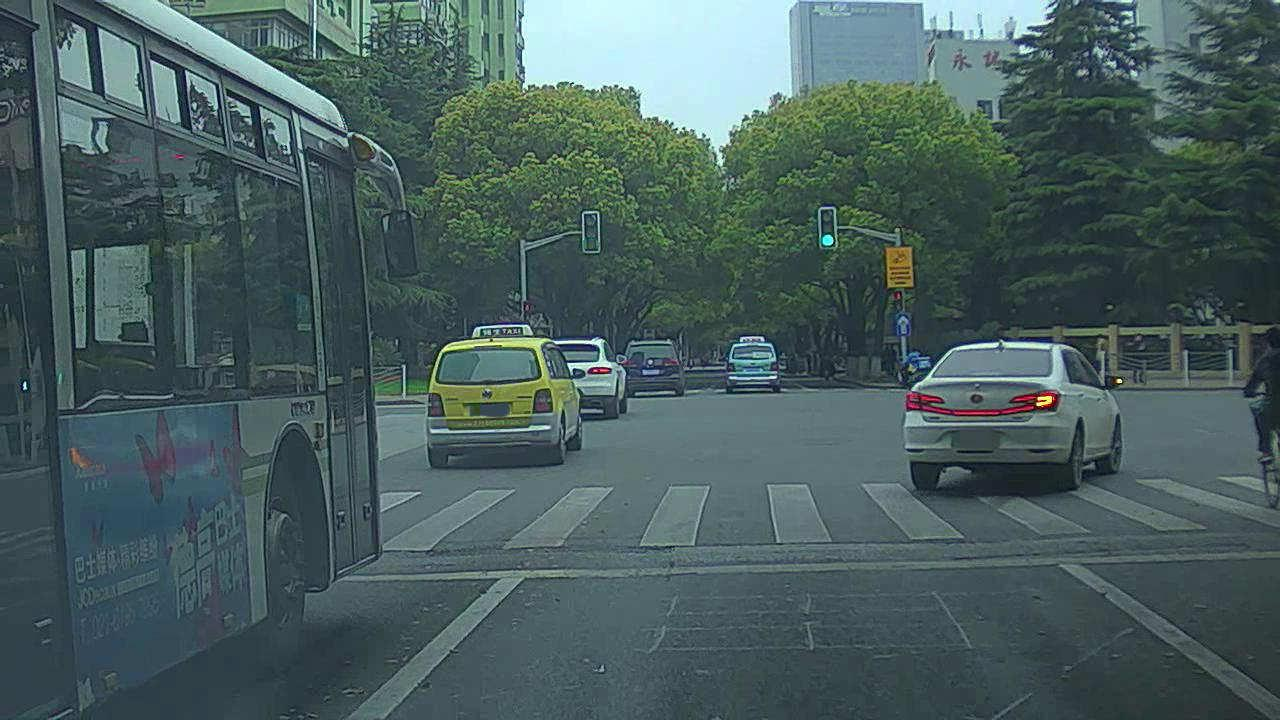traffic_light: (582, 213, 602, 256), (819, 202, 837, 248)
